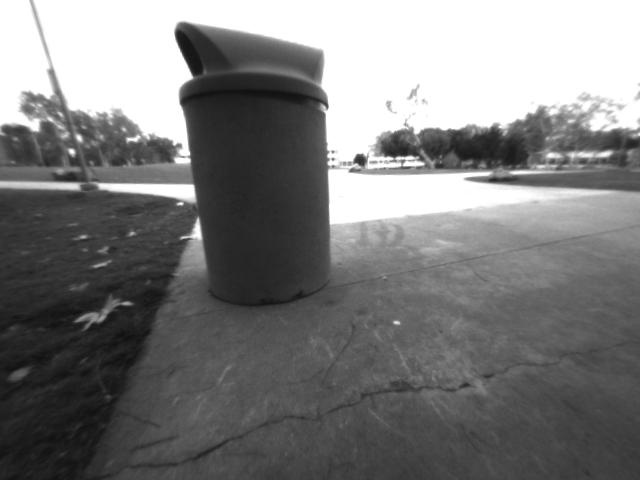trashcan: (164, 11, 364, 306)
